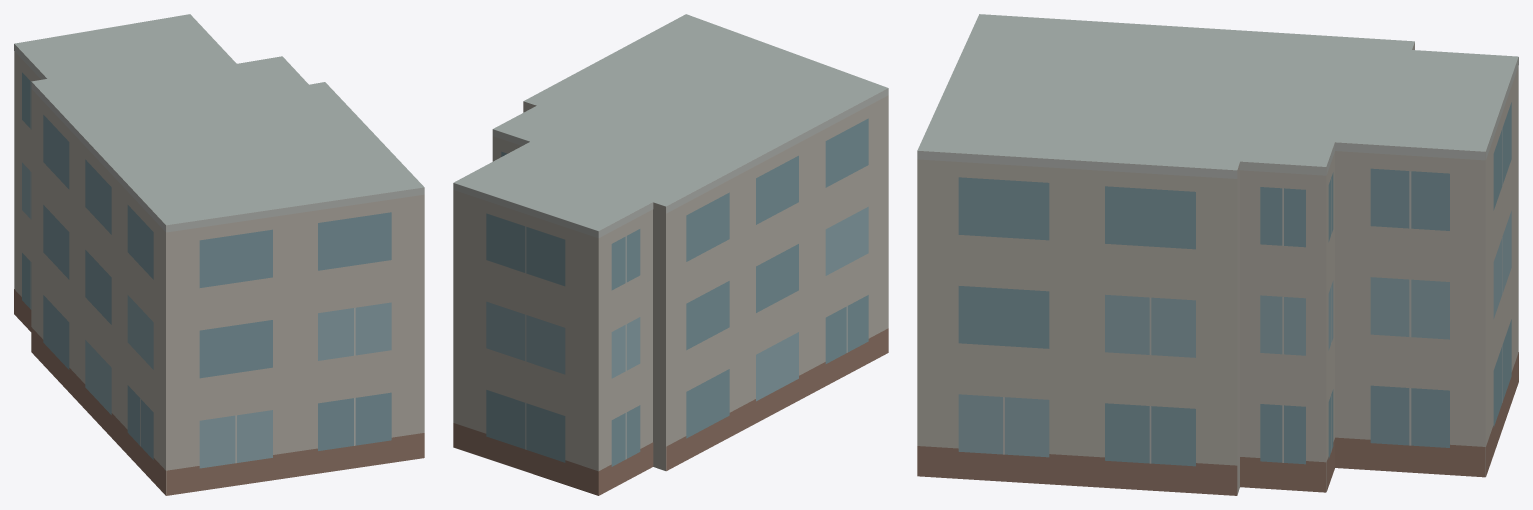
File: survey-upis-32801116.glb
The picture shows the model from 3 angles, left to right: view 1: azimuth 30°, elevation 25°; view 2: azimuth 150°, elevation 25°; view 3: azimuth 270°, elevation 25°; orthographic projection. The views are drawn at different scales.
Visible parts, largest first — view 1: survey-upis-32801116.tmp; view 2: survey-upis-32801116.tmp; view 3: survey-upis-32801116.tmp.
Part boxes in pixels (x1,y1,x2,y2): survey-upis-32801116.tmp: (14, 14, 424, 495); survey-upis-32801116.tmp: (453, 14, 888, 495); survey-upis-32801116.tmp: (917, 14, 1518, 495).
Size of the model in its own units: 9.44 by 9.15 by 15.33.
